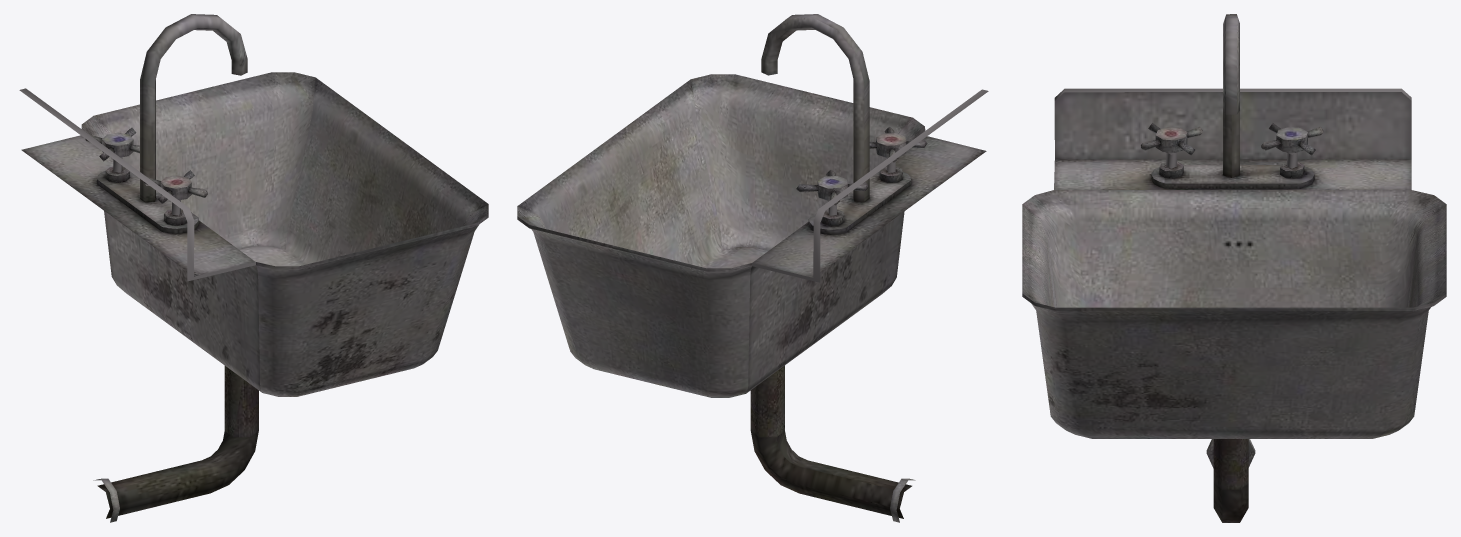
The model's file is sinkkitchen01a.glb.
3 renders of one model, left to right at view 1: azimuth 30°, elevation 25°; view 2: azimuth 150°, elevation 25°; view 3: azimuth 270°, elevation 25°, orthographic. The views are drawn at different scales.
Parts seen in each view (by area): view 1: 0_SinkKitchen01a; view 2: 0_SinkKitchen01a; view 3: 0_SinkKitchen01a.
Part boxes in pixels (<box>): 0_SinkKitchen01a: <box>19,14,488,522</box>; 0_SinkKitchen01a: <box>517,14,988,522</box>; 0_SinkKitchen01a: <box>1022,14,1446,522</box>.
Bounding box in the file's own units: 0.591 × 0.9046 × 0.6963.
Materials: 1 (1 with a texture image).
